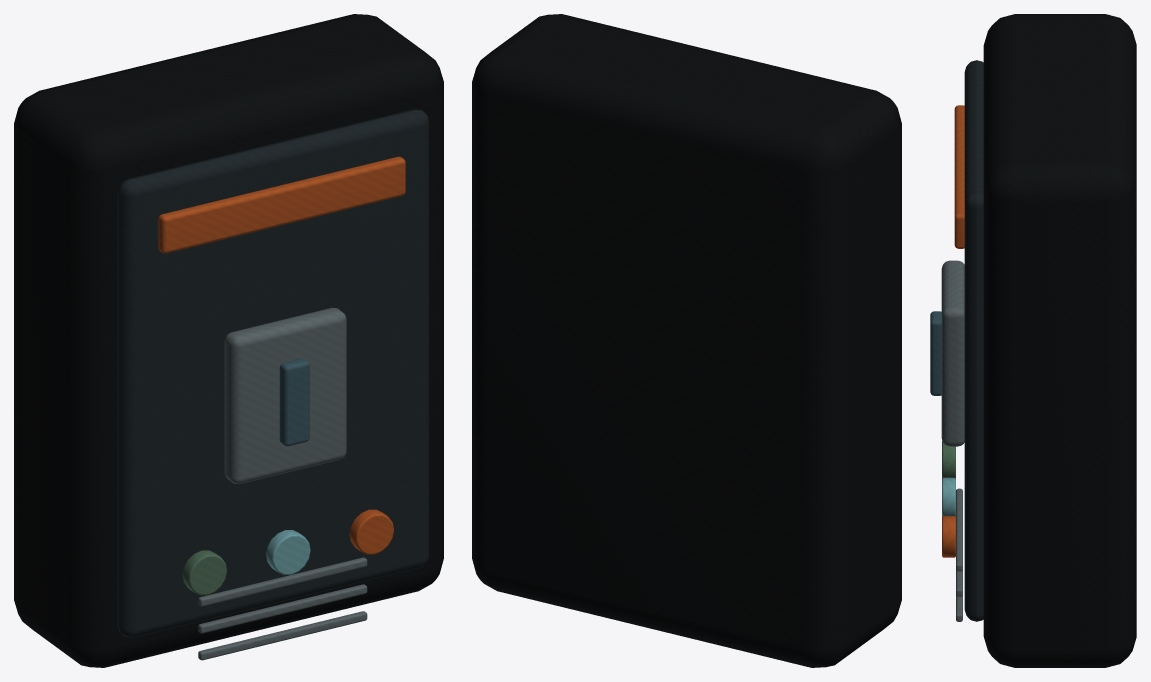
File: PowerJunction.fbx
3 renders of one model, left to right at view 1: azimuth 30°, elevation 25°; view 2: azimuth 150°, elevation 25°; view 3: azimuth 270°, elevation 25°, orthographic. The views are drawn at different scales.
Parts seen in each view (by area): view 1: PowerJunction_Mesh; view 2: PowerJunction_Mesh; view 3: PowerJunction_Mesh.
Boxes of the visible parts, x1,y1,x2,y2 form: PowerJunction_Mesh: (14, 14, 443, 667); PowerJunction_Mesh: (472, 14, 901, 667); PowerJunction_Mesh: (930, 14, 1136, 667).
Size of the model in its own units: 58 by 80 by 29.7.
Materials: 7 (7 with a texture image).
